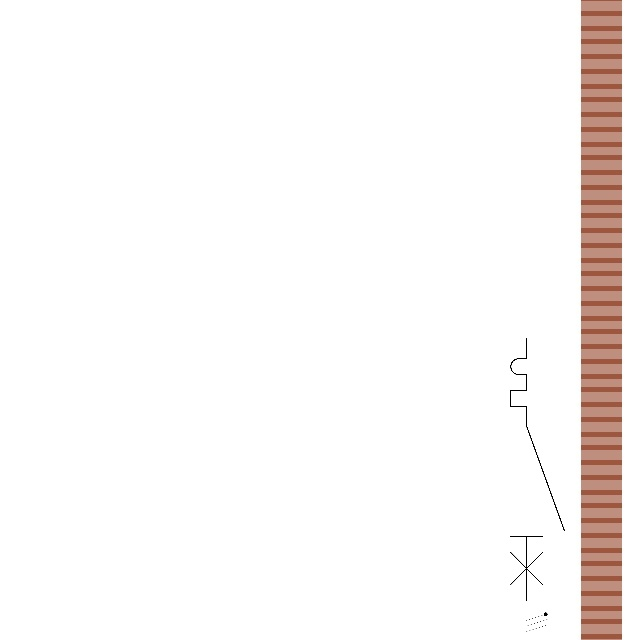interruptor_termomagnetico: (504, 332, 571, 607)
